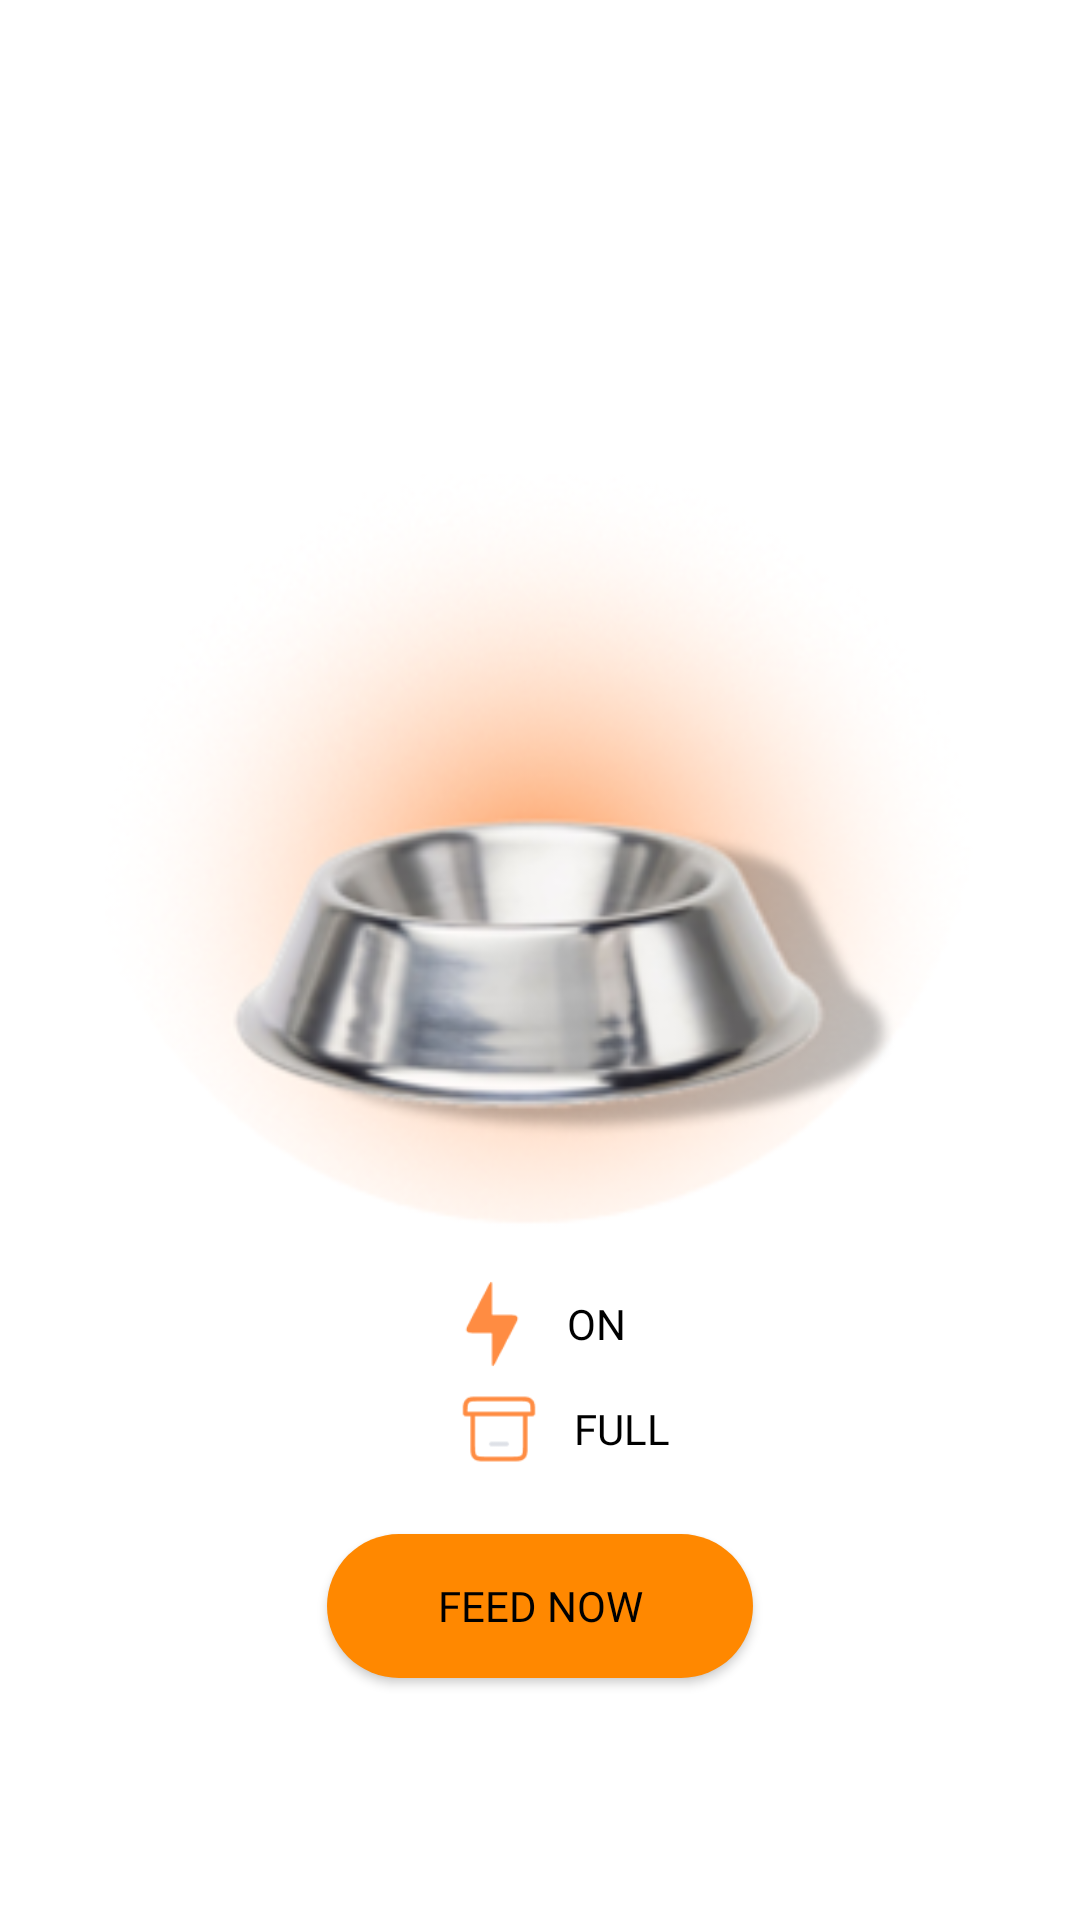

Where to tap for icons on this 1080 × 1920 app screen, as point (x, y):
iconpetir: point (492, 1324)
kotak: point (499, 1429)
